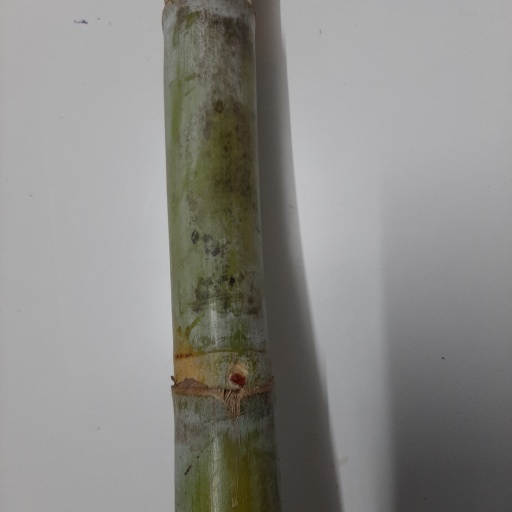Damage_Bud: (225, 359, 251, 390)
